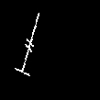treble_crochet: (15, 14, 38, 75)
